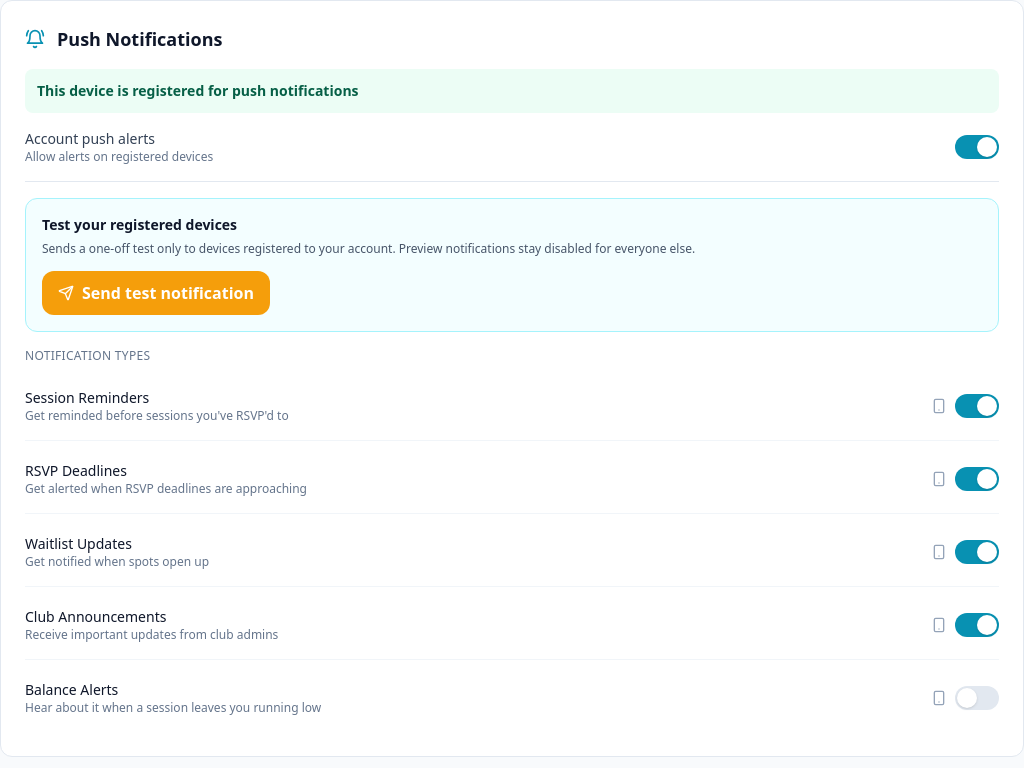
Scenario: lets an admin send a self-targeted push test after device setup
The image size is (1024, 768).
What coordinates should you click on to do the following:
click the button "Send test notification"
I would click on:
 (156, 293)
Its box is [42, 271, 270, 315].
(page scrolled)
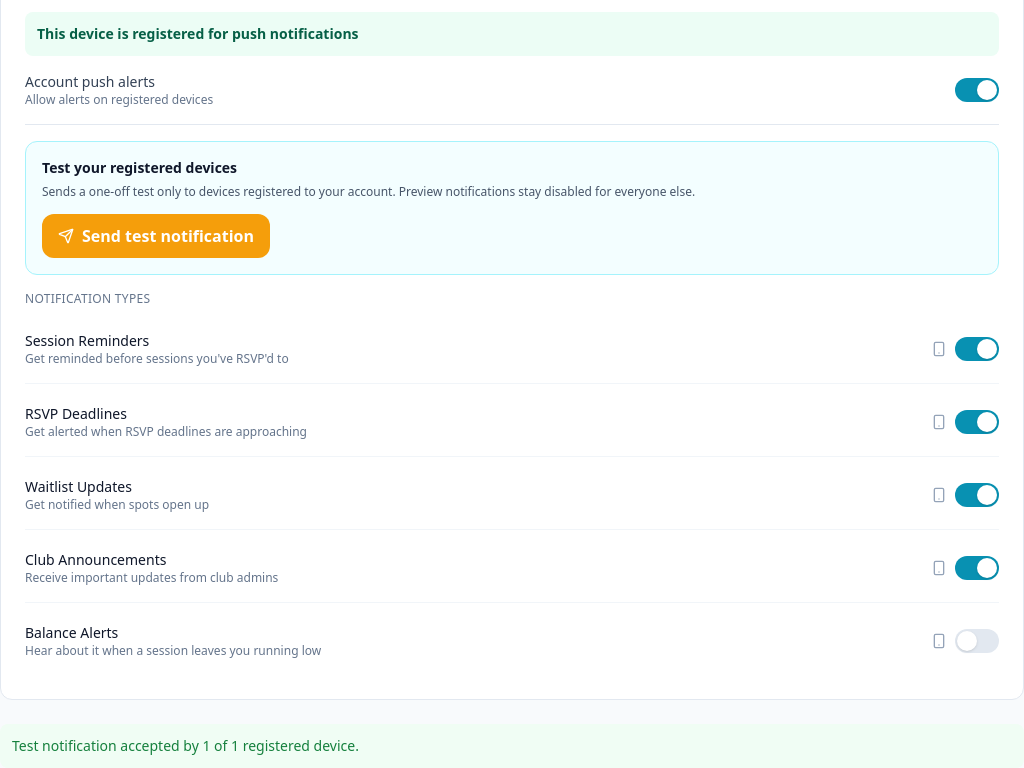
Result: the text "Test notification accepted by 1 of 1 registered device." is shown at [0, 724, 1023, 767]
